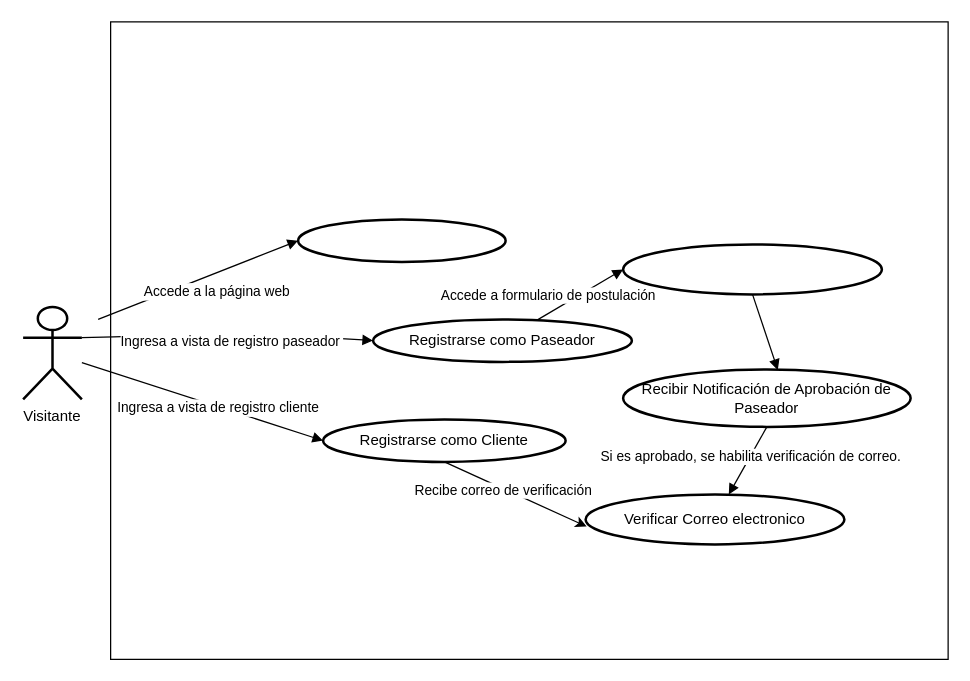
The diagram is 970 pixels wide and 681 high, and some of its shapes have lost their labels. Here are the shapes that lost their labels. From the top down, the box of each, then its label:
(296, 218, 506, 262): Navegar en la página
(621, 242, 882, 295): Enviar Formulario de postulación
